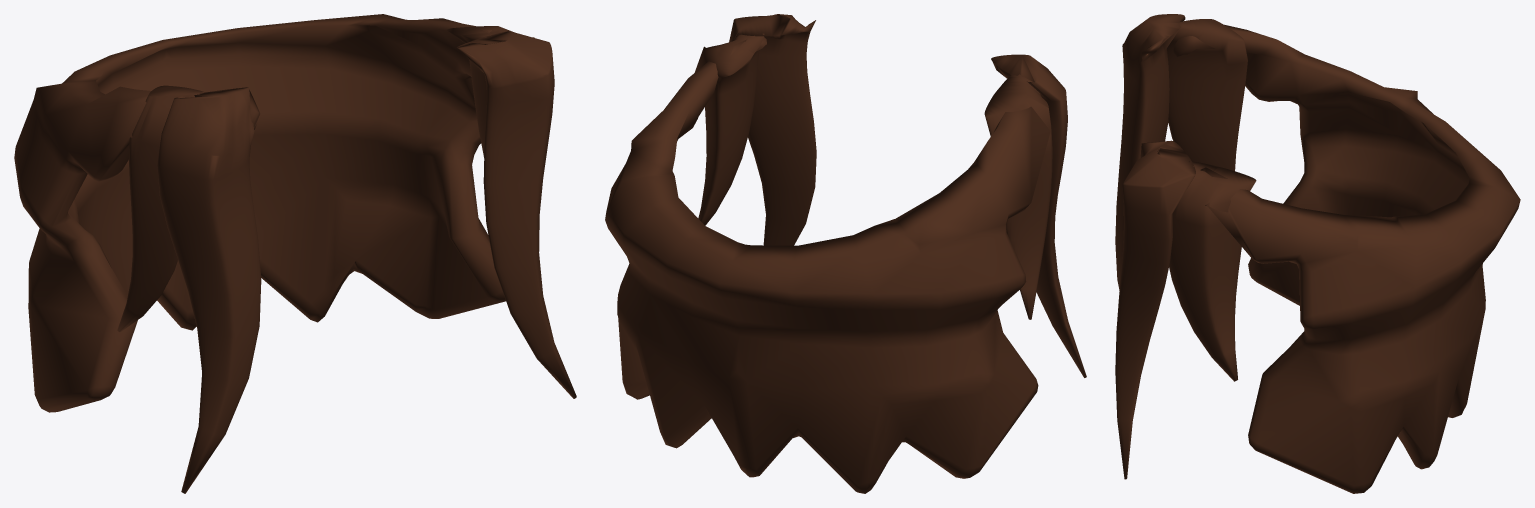
3 renders of one model, left to right at view 1: azimuth 30°, elevation 25°; view 2: azimuth 150°, elevation 25°; view 3: azimuth 270°, elevation 25°, orthographic. The views are drawn at different scales.
Parts seen in each view (by area): view 1: hairLongBangsBald; view 2: hairLongBangsBald; view 3: hairLongBangsBald.
Boxes of the visible parts, x1,y1,x2,y2 form: hairLongBangsBald: [14, 14, 576, 493]; hairLongBangsBald: [605, 14, 1086, 493]; hairLongBangsBald: [1115, 14, 1520, 493].
Size of the model in its own units: 0.5692 by 0.471 by 0.5019.
1 material, 1 textured.
